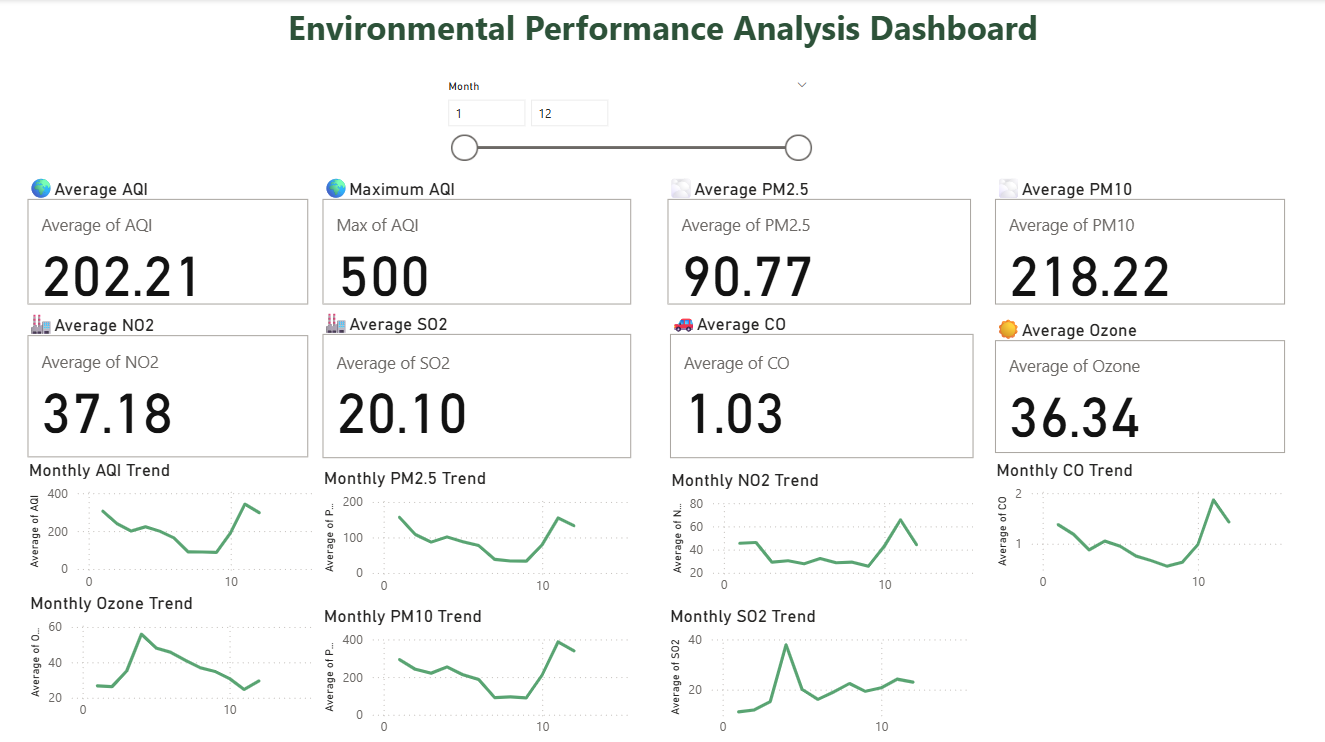

The dashboard page shown, as its layout file describes it:
{"tool":"powerbi","page":{"name":"Page 1","canvas":[1280,720],"ordinal":0},"visuals":[{"type":"cardVisual","title":"Average AQI","fields":{"Data":["Avg(final_dataset.AQI)"]},"box":[21.4,181.4,281.4,131.4],"z":0},{"type":"cardVisual","title":"Maximum AQI","fields":{"Data":["Max(final_dataset.AQI)"]},"box":[317.1,181.4,308.6,131.4],"z":1000},{"type":"cardVisual","title":"Average PM2.5","fields":{"Data":["Avg(final_dataset.PM2.5)"]},"box":[640,181.4,302.9,131.4],"z":2000},{"type":"lineChart","title":"Monthly AQI Trend","fields":{"Category":["final_dataset.Month"],"Y":["Avg(final_dataset.AQI)"]},"box":[22.9,458.6,282.9,137.1],"z":3000},{"type":"cardVisual","title":"Average PM10","fields":{"Data":["Avg(final_dataset.PM10)"]},"box":[968.6,181.4,291.4,131.4],"z":4000},{"type":"slicer","fields":{"Values":["final_dataset.Month"]},"box":[457.1,72.9,371.4,108.6],"z":5000},{"type":"textbox","box":[0,0,1280,72.5],"z":6000},{"type":"cardVisual","title":"Average NO2","fields":{"Data":["Avg(final_dataset.NO2)"]},"box":[21.4,312.9,281.4,148.6],"z":7000},{"type":"cardVisual","title":"Average SO2","fields":{"Data":["Avg(final_dataset.SO2)"]},"box":[317.1,312.9,308.6,150],"z":8000},{"type":"cardVisual","title":"Average CO","fields":{"Data":["Avg(final_dataset.CO)"]},"box":[640,312.9,302.9,150],"z":9000},{"type":"cardVisual","title":"Average Ozone","fields":{"Data":["Avg(final_dataset.Ozone)"]},"box":[967.1,312.9,291.4,138.6],"z":10000},{"type":"lineChart","title":"Monthly PM2.5 Trend","fields":{"Category":["final_dataset.Month"],"Y":["Avg(final_dataset.PM2.5)"]},"box":[318.6,464.3,307.1,131.4],"z":11000},{"type":"lineChart","title":"Monthly PM10 Trend","fields":{"Category":["final_dataset.Month"],"Y":["Avg(final_dataset.PM10)"]},"box":[318.6,594.3,307.1,125.7],"z":12000},{"type":"lineChart","title":"Monthly NO2 Trend","fields":{"Category":["final_dataset.Month"],"Y":["Avg(final_dataset.NO2)"]},"box":[640,464.3,302.9,130],"z":13000},{"type":"lineChart","title":"Monthly SO2 Trend","fields":{"Category":["final_dataset.Month"],"Y":["Avg(final_dataset.SO2)"]},"box":[640,594.3,300,124.3],"z":14000},{"type":"lineChart","title":"Monthly CO Trend","fields":{"Category":["final_dataset.Month"],"Y":["Avg(final_dataset.CO)"]},"box":[968.6,464.3,290,130],"z":15000},{"type":"lineChart","title":"Monthly Ozone Trend","fields":{"Category":["final_dataset.Month"],"Y":["Avg(final_dataset.Ozone)"]},"box":[22.9,595.7,282.9,124.3],"z":16000}]}

Visuals, with their boxes in screenshot pixels (x1, y1, x2, y2), scaled from the page's 1280x720 canvas onto the 1325x742 screenshot:
"Average AQI" cardVisual: 22:187:313:322
"Maximum AQI" cardVisual: 328:187:648:322
"Average PM2.5" cardVisual: 662:187:976:322
"Monthly AQI Trend" lineChart: 24:473:317:614
"Average PM10" cardVisual: 1003:187:1304:322
slicer - final_dataset.Month: 473:75:858:187
textbox: 0:0:1324:75
"Average NO2" cardVisual: 22:322:313:476
"Average SO2" cardVisual: 328:322:648:477
"Average CO" cardVisual: 662:322:976:477
"Average Ozone" cardVisual: 1001:322:1303:465
"Monthly PM2.5 Trend" lineChart: 330:478:648:614
"Monthly PM10 Trend" lineChart: 330:612:648:741
"Monthly NO2 Trend" lineChart: 662:478:976:612
"Monthly SO2 Trend" lineChart: 662:612:973:741
"Monthly CO Trend" lineChart: 1003:478:1303:612
"Monthly Ozone Trend" lineChart: 24:614:317:741
